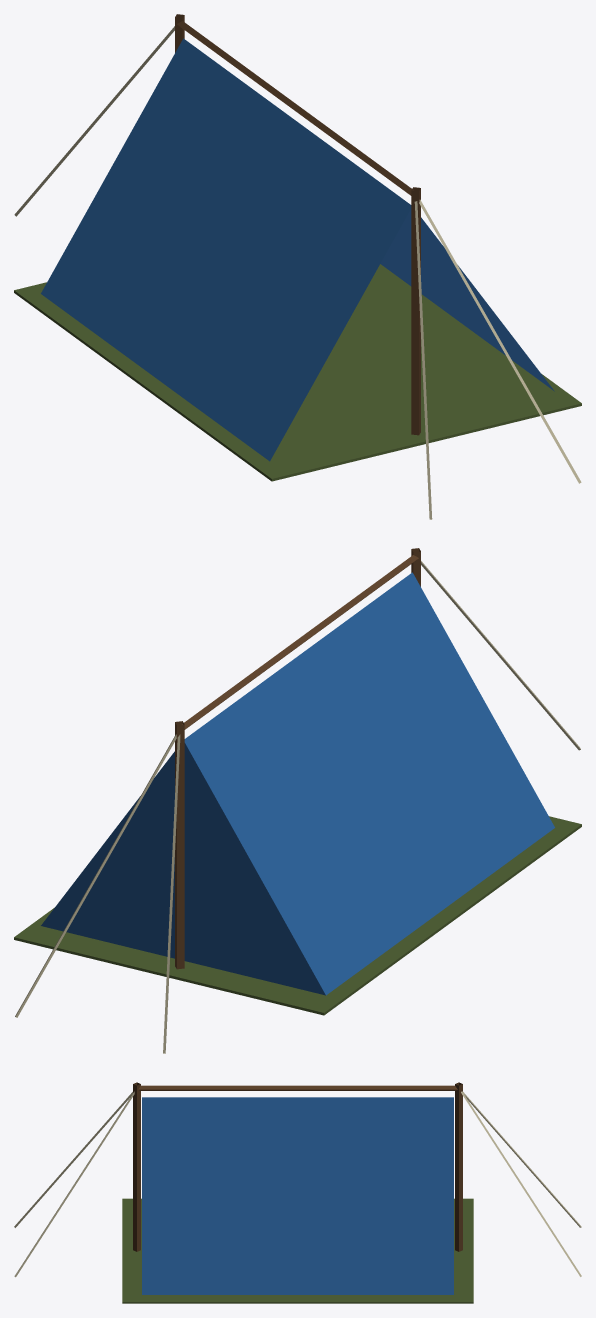
Rendered from fr_tent.glb.
3 renders of one model, top to bottom at view 1: azimuth 30°, elevation 25°; view 2: azimuth 150°, elevation 25°; view 3: azimuth 270°, elevation 25°, orthographic. The views are drawn at different scales.
Parts seen in each view (by area): view 1: fr_tent; view 2: fr_tent; view 3: fr_tent.
Part boxes in pixels (x1,y1,x2,y2): fr_tent: (14, 14, 581, 519); fr_tent: (14, 548, 581, 1053); fr_tent: (14, 1082, 581, 1303).
Size of the model in its own units: 2.5 by 1.91 by 5.82.
